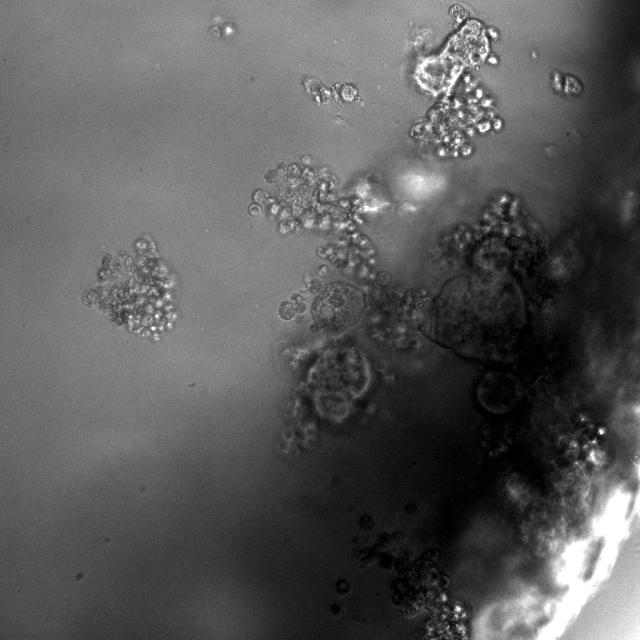organoid: (249, 163, 604, 555), (408, 4, 503, 158), (277, 336, 394, 455), (358, 532, 472, 639), (81, 234, 177, 341), (301, 76, 362, 104), (298, 265, 329, 295), (551, 70, 582, 96), (208, 16, 236, 39), (335, 579, 350, 595), (359, 514, 374, 530)
